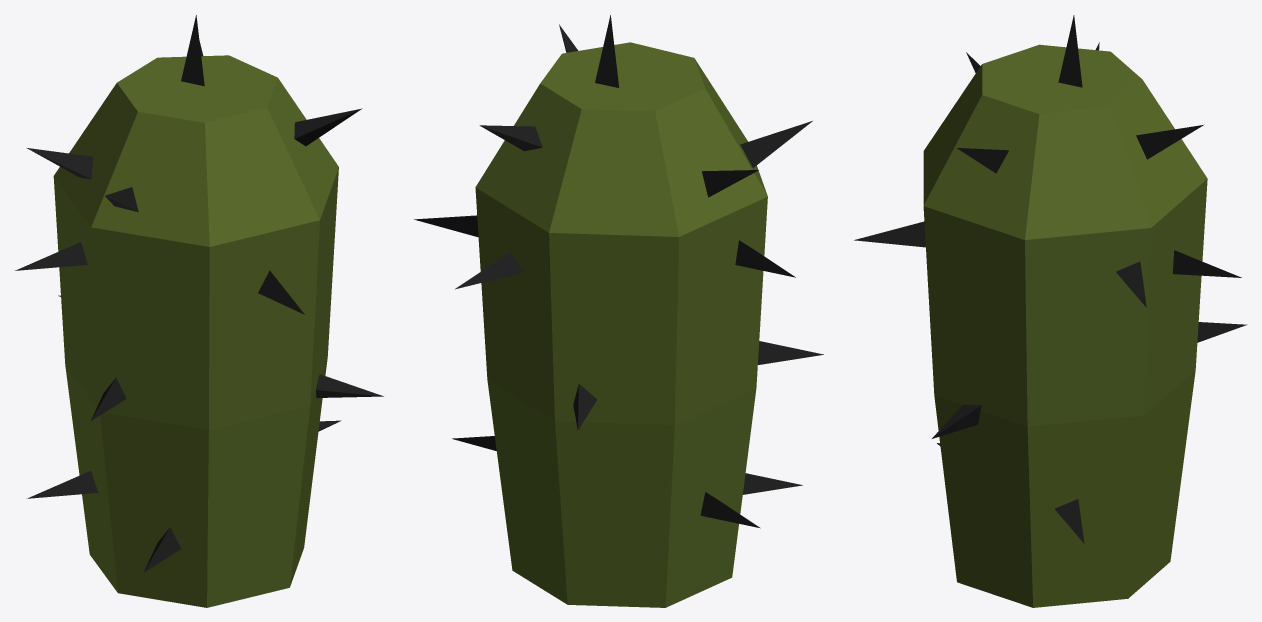
Rendered from Cactus.glb.
3 renders of one model, left to right at view 1: azimuth 30°, elevation 25°; view 2: azimuth 150°, elevation 25°; view 3: azimuth 270°, elevation 25°, orthographic. The views are drawn at different scales.
Parts seen in each view (by area): view 1: Cactus; view 2: Cactus; view 3: Cactus.
Part boxes in pixels (x1,y1,x2,y2): Cactus: (15,15,383,607); Cactus: (414,15,823,607); Cactus: (854,15,1247,607).
Bounding box in the file's own units: 0.2453 × 0.3742 × 0.2431.
